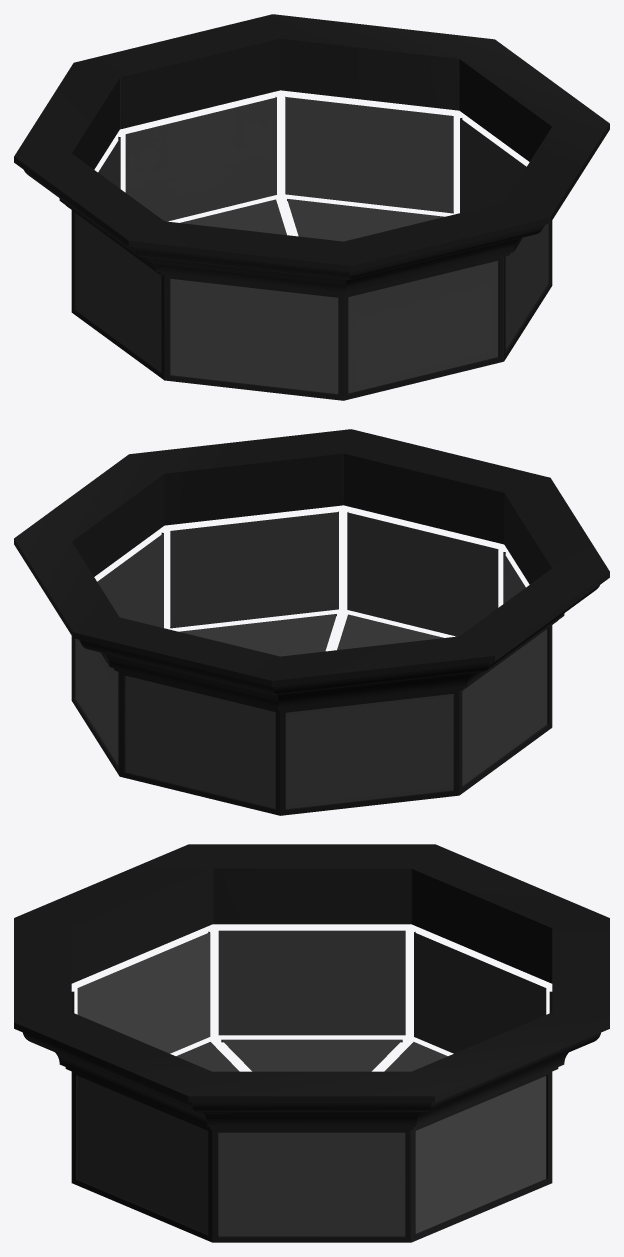
File: lighting_ceiling_light_536c2e45-4367-56bf-a7b7-5bfcf47475a1.glb
The picture shows the model from 3 angles, top to bottom: view 1: azimuth 30°, elevation 25°; view 2: azimuth 150°, elevation 25°; view 3: azimuth 270°, elevation 25°; orthographic projection. The views are drawn at different scales.
Parts seen in each view (by area): view 1: raw_model.obj; view 2: raw_model.obj; view 3: raw_model.obj.
Part boxes in pixels (left/top/right/bottom): raw_model.obj: left=14, top=14, right=609, bottom=400; raw_model.obj: left=14, top=429, right=609, bottom=815; raw_model.obj: left=14, top=844, right=609, bottom=1242.
Size of the model in its own units: 0.6003 by 0.2418 by 0.6003.
1 material, 1 textured.
